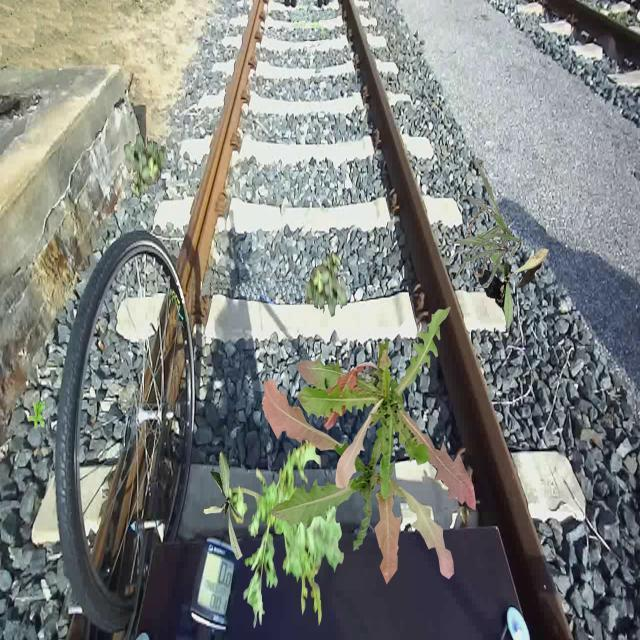Plant: (296, 307, 476, 585), (262, 377, 454, 580), (220, 433, 345, 629), (449, 164, 522, 288), (477, 229, 548, 328), (204, 451, 244, 561), (304, 251, 348, 318), (123, 133, 166, 200), (28, 398, 46, 430)
